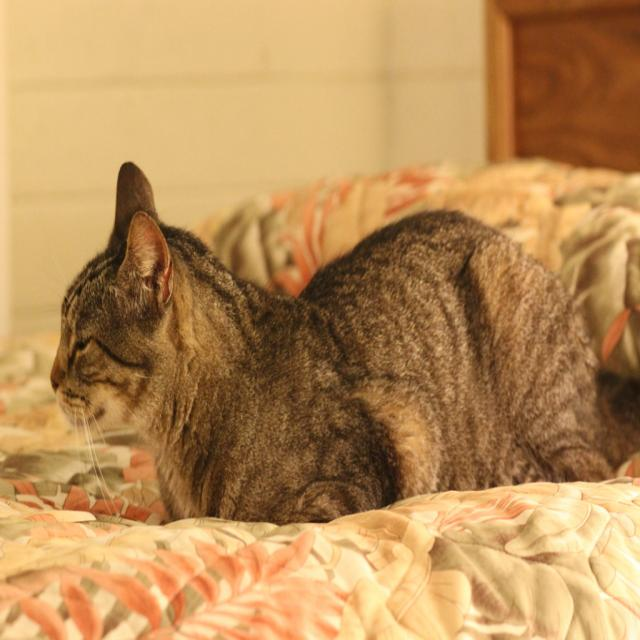Cat: (50, 161, 640, 526)
